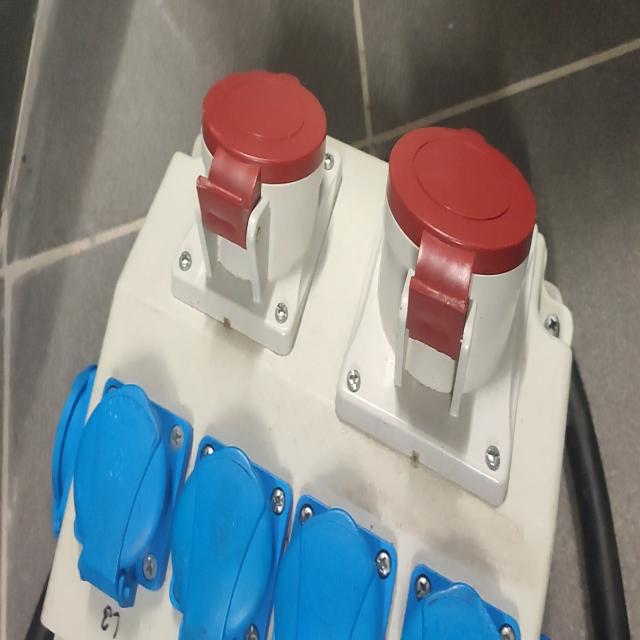400v socket: (337, 128, 535, 505), (169, 68, 348, 356)
house plug covered: (72, 377, 195, 608), (167, 436, 295, 640), (274, 495, 400, 640), (51, 361, 100, 544), (400, 567, 521, 640)
